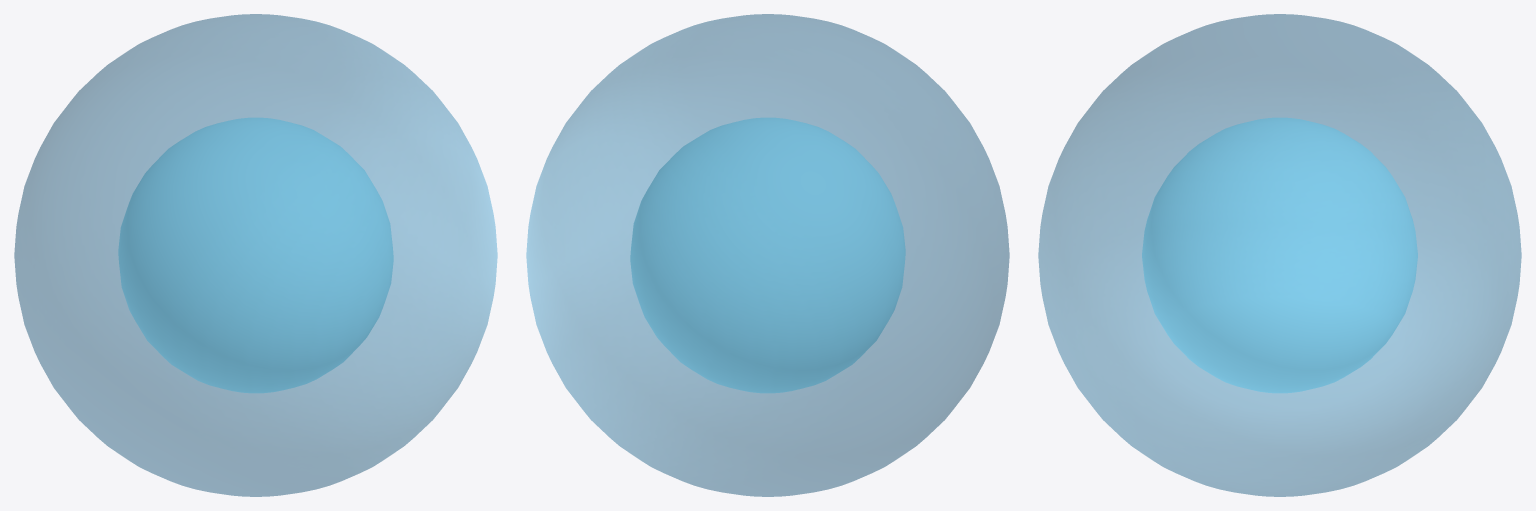
Rendered from orb_blue_Glow.glb.
3 views of the same model, side by side, from view 1: azimuth 30°, elevation 25°; view 2: azimuth 150°, elevation 25°; view 3: azimuth 270°, elevation 25° (orthographic).
Visible parts, largest first — view 1: OrbBlue; view 2: OrbBlue; view 3: OrbBlue.
Part boxes in pixels (box(x1,y1,x2,y2)): OrbBlue: box(14, 14, 497, 496); OrbBlue: box(526, 14, 1009, 496); OrbBlue: box(1038, 14, 1521, 496).
Bounding box in the file's own units: 0.7 × 0.7 × 0.7.
2 materials, 2 textured.
